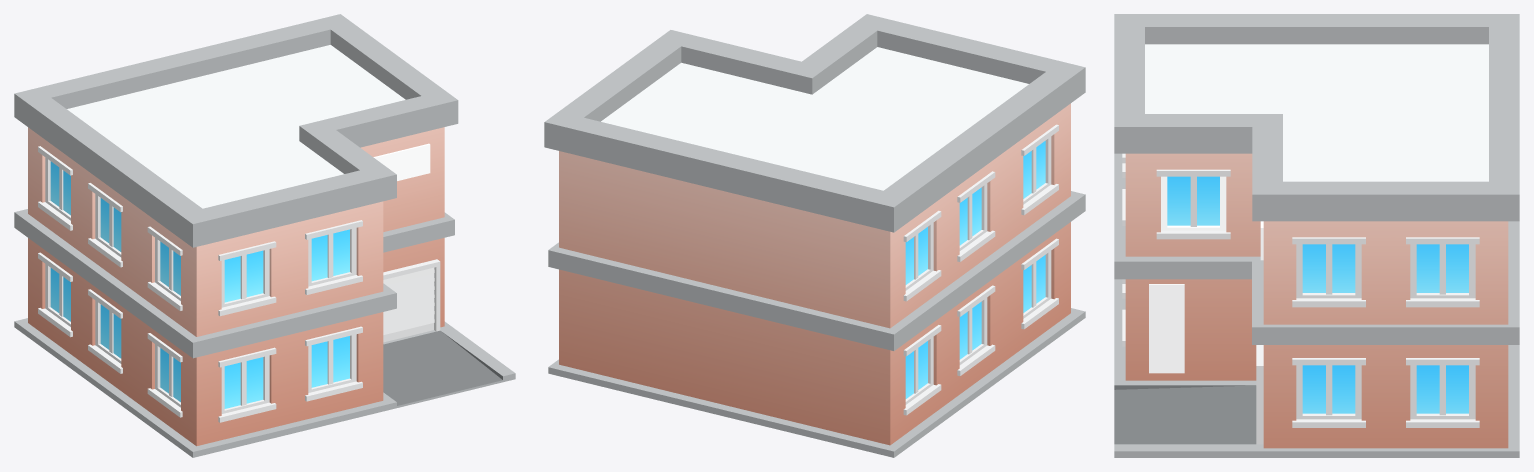
Rendered from Building_Institution_09.glb.
The picture shows the model from 3 angles, left to right: view 1: azimuth 30°, elevation 25°; view 2: azimuth 150°, elevation 25°; view 3: azimuth 270°, elevation 25°; orthographic projection. The views are drawn at different scales.
Visible parts, largest first — view 1: Building_Institution_09; view 2: Building_Institution_09; view 3: Building_Institution_09.
Part boxes in pixels (x1=…): Building_Institution_09: x1=14, y1=14, x2=515, y2=457; Building_Institution_09: x1=544, y1=14, x2=1085, y2=457; Building_Institution_09: x1=1114, y1=14, x2=1519, y2=457.
Bounding box in the file's own units: 11.43 × 7.83 × 10.84.
1 material, 1 textured.
